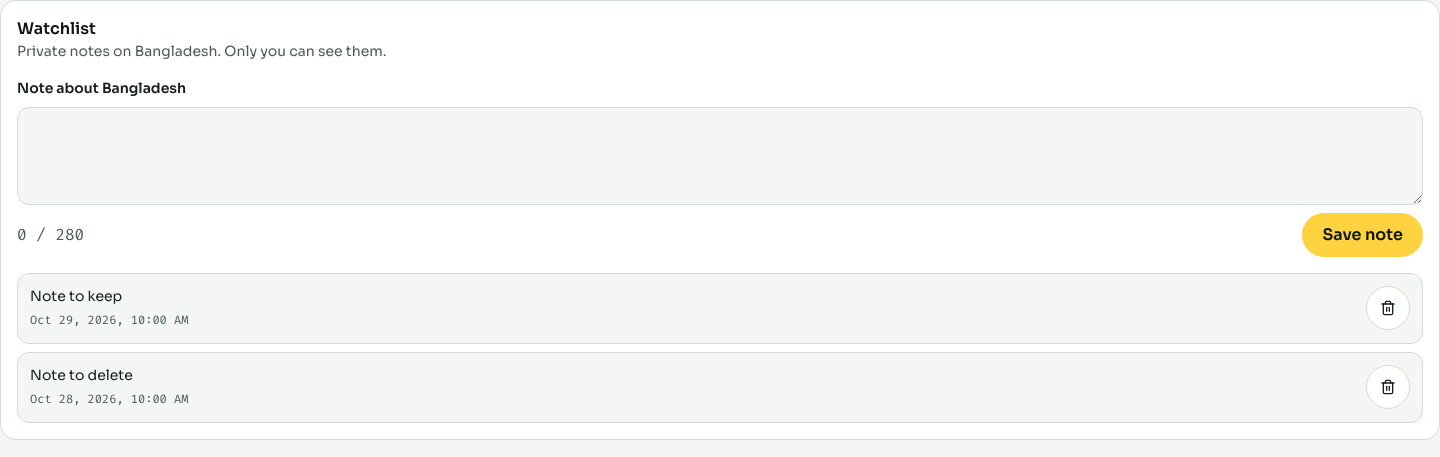
Test: WatchlistCard delete › shows an error instead of a stale list when the reload after delete fails
The image size is (1440, 457).
Expected: the text "Note to delete" is shown, [30,366,133,384]
Click the button named "Delete note from ".
click(1388, 387)  # box [1366,365,1410,409]
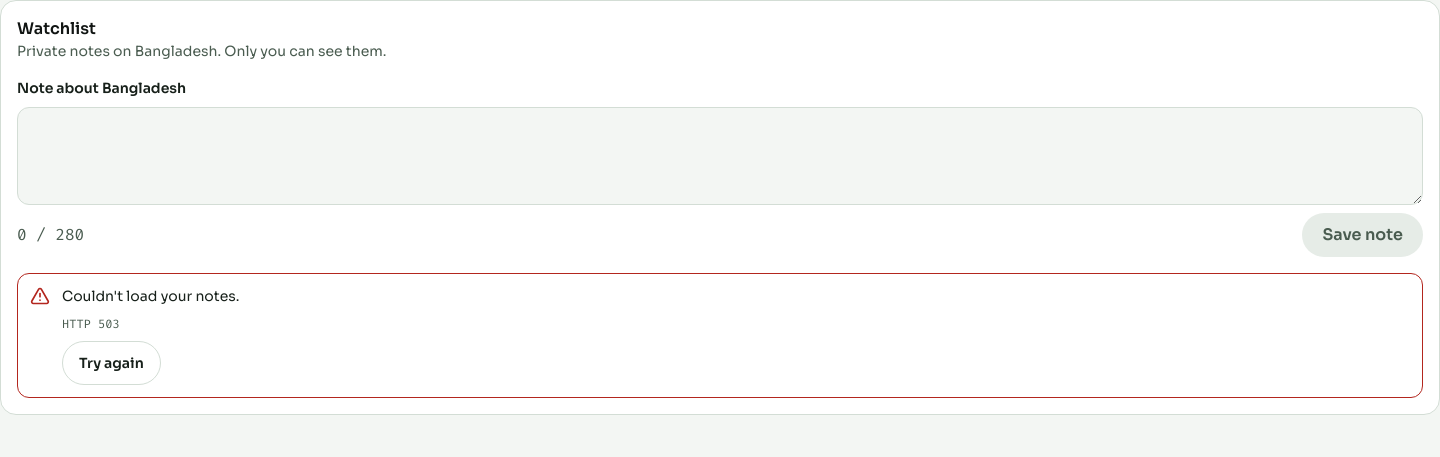
Now the message shows "Couldn't load your notes.", box [62,287,239,305]
Now the list item "Note to keep Oct 29, 2026, 10:00 AM" is gone
